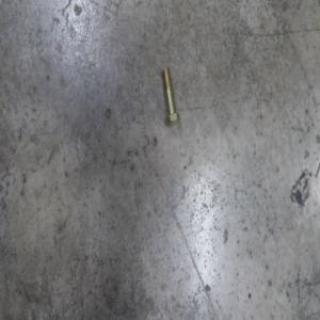Bolttrack_idkeyframe: (161, 65, 180, 126)
